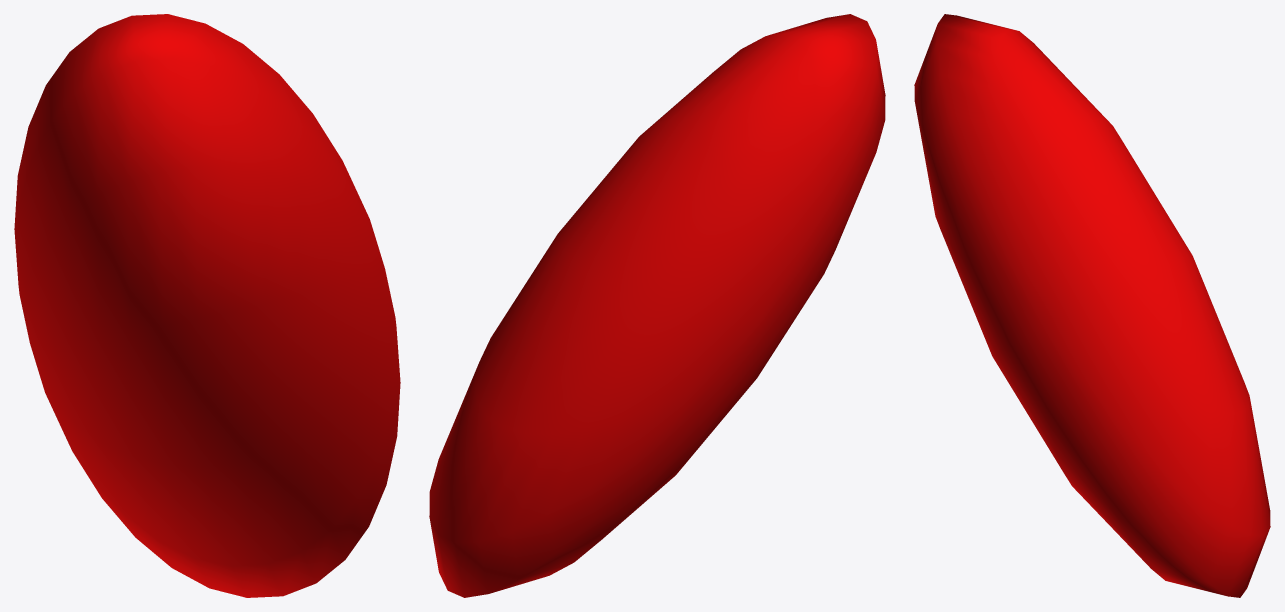
Rendered from leftlarm.fbx.
3 renders of one model, left to right at view 1: azimuth 30°, elevation 25°; view 2: azimuth 150°, elevation 25°; view 3: azimuth 270°, elevation 25°, orthographic. The views are drawn at different scales.
Parts seen in each view (by area): view 1: 구체.001; view 2: 구체.001; view 3: 구체.001.
Boxes of the visible parts, left/top/right/bottom form: 구체.001: left=14, top=14, right=400, bottom=597; 구체.001: left=429, top=14, right=885, bottom=597; 구체.001: left=914, top=14, right=1270, bottom=597.
Size of the model in its own units: 78.54 by 121 by 83.47.
